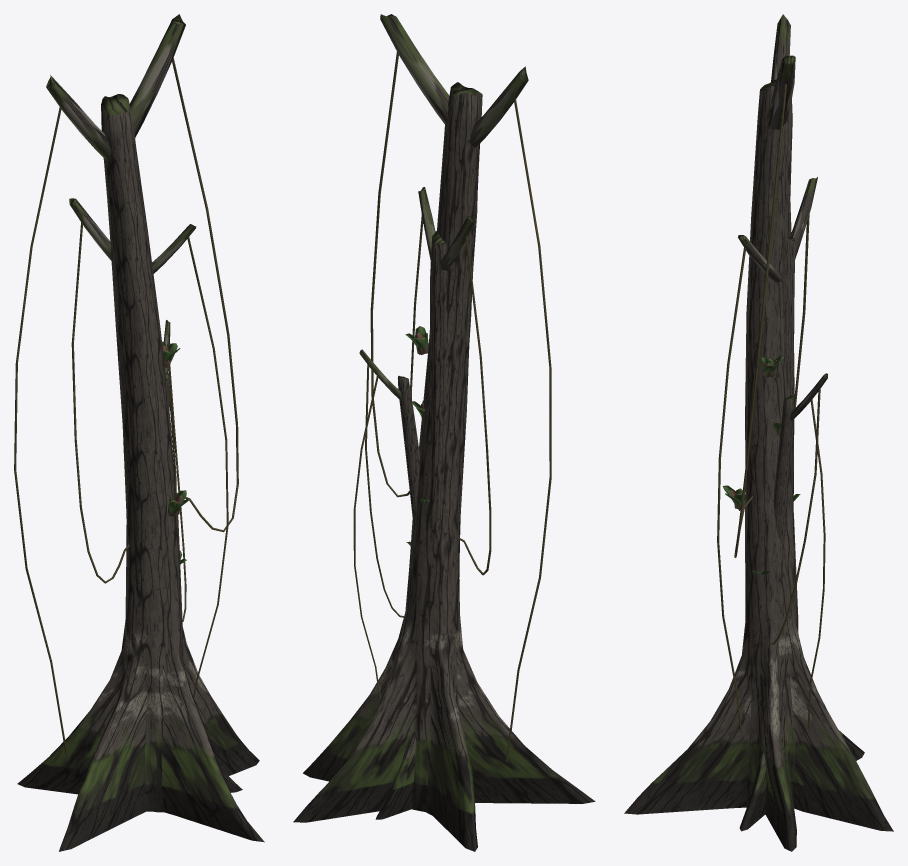
The model's file is trunk_selva_kit_hp_LOD1.glb.
3 views of the same model, side by side, from view 1: azimuth 30°, elevation 25°; view 2: azimuth 150°, elevation 25°; view 3: azimuth 270°, elevation 25° (orthographic). The views are drawn at different scales.
Parts seen in each view (by area): view 1: Trunk_Thick_LOD1, Trunk_Medium_LOD1, Trunk_Thin_LOD1; view 2: Trunk_Thick_LOD1, Trunk_Medium_LOD1, Trunk_Thin_LOD1; view 3: Trunk_Thick_LOD1, Trunk_Medium_LOD1, Trunk_Thin_LOD1.
Part boxes in pixels (<box>): Trunk_Thick_LOD1: <box>14,14,264,851</box>; Trunk_Medium_LOD1: <box>69,198,242,792</box>; Trunk_Thin_LOD1: <box>163,320,186,621</box>; Trunk_Thick_LOD1: <box>293,14,595,851</box>; Trunk_Medium_LOD1: <box>375,187,491,819</box>; Trunk_Thin_LOD1: <box>353,349,430,701</box>; Trunk_Thick_LOD1: <box>624,14,893,851</box>; Trunk_Medium_LOD1: <box>717,177,817,831</box>; Trunk_Thin_LOD1: <box>751,373,827,728</box>.
Bounding box in the file's own units: 4.98 × 14.86 × 4.8.
Materials: 1 (1 with a texture image).
